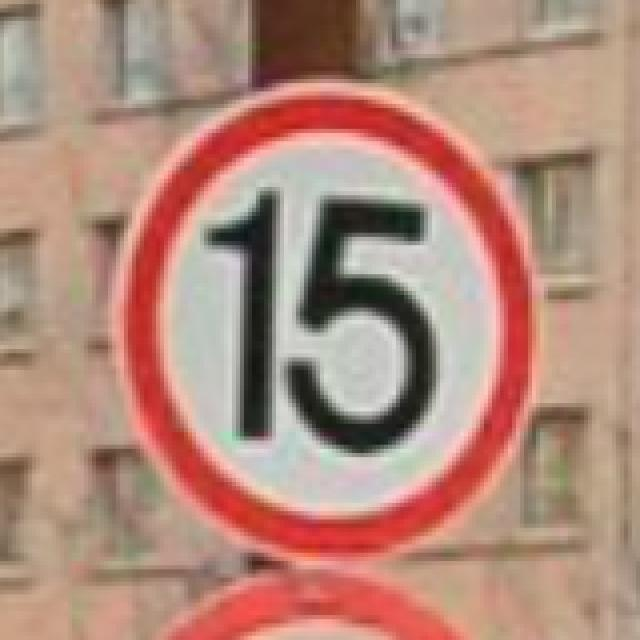Speed: (99, 53, 552, 574)
